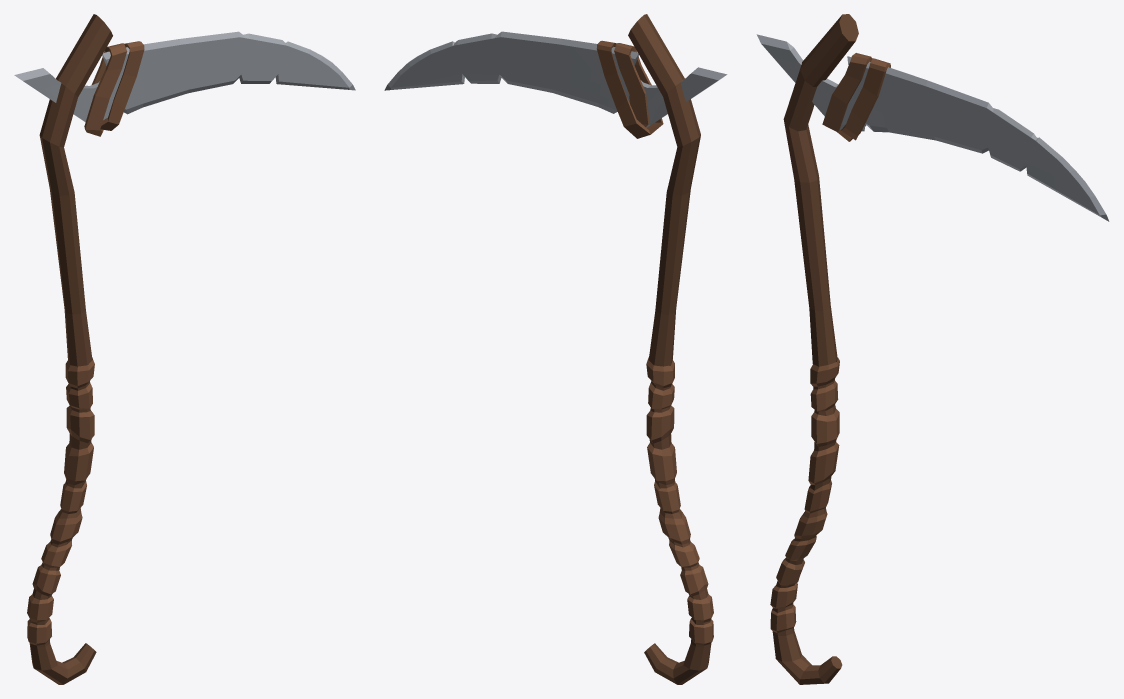
The model's file is armory-necromancer-0.glb.
The picture shows the model from 3 angles, left to right: view 1: azimuth 30°, elevation 25°; view 2: azimuth 150°, elevation 25°; view 3: azimuth 330°, elevation 25°; orthographic projection. The views are drawn at different scales.
Parts seen in each view (by area): view 1: Scythe_Cylinder.005; view 2: Scythe_Cylinder.005; view 3: Scythe_Cylinder.005.
Boxes of the visible parts, bbox=[...] form: Scythe_Cylinder.005: bbox=[14, 14, 355, 684]; Scythe_Cylinder.005: bbox=[384, 14, 727, 684]; Scythe_Cylinder.005: bbox=[756, 14, 1109, 684].
Bounding box in the file's own units: 3.03 × 5.58 × 0.2771.
